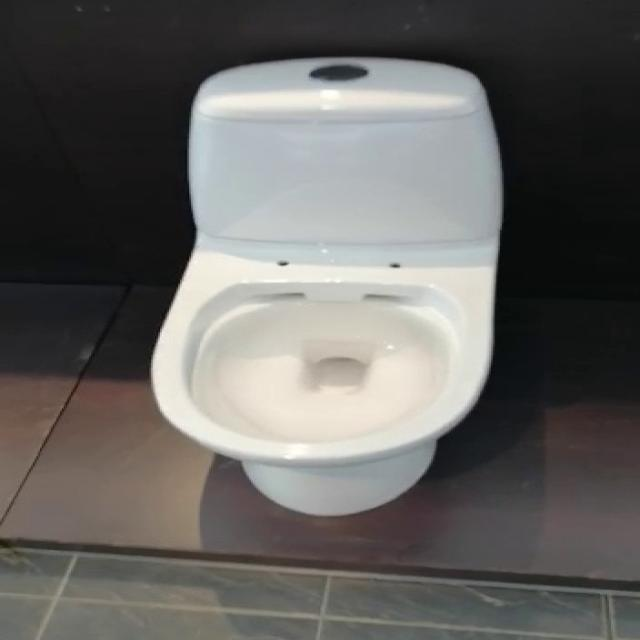toilet: (143, 51, 515, 522)
